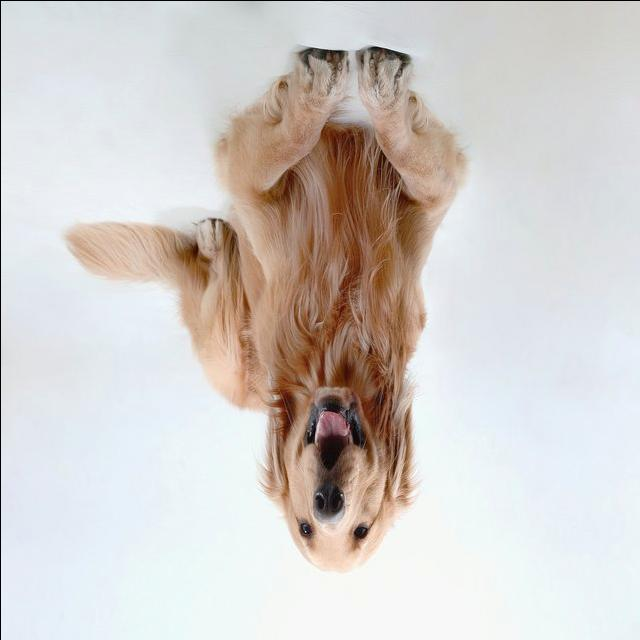retriever: (63, 45, 468, 575)
